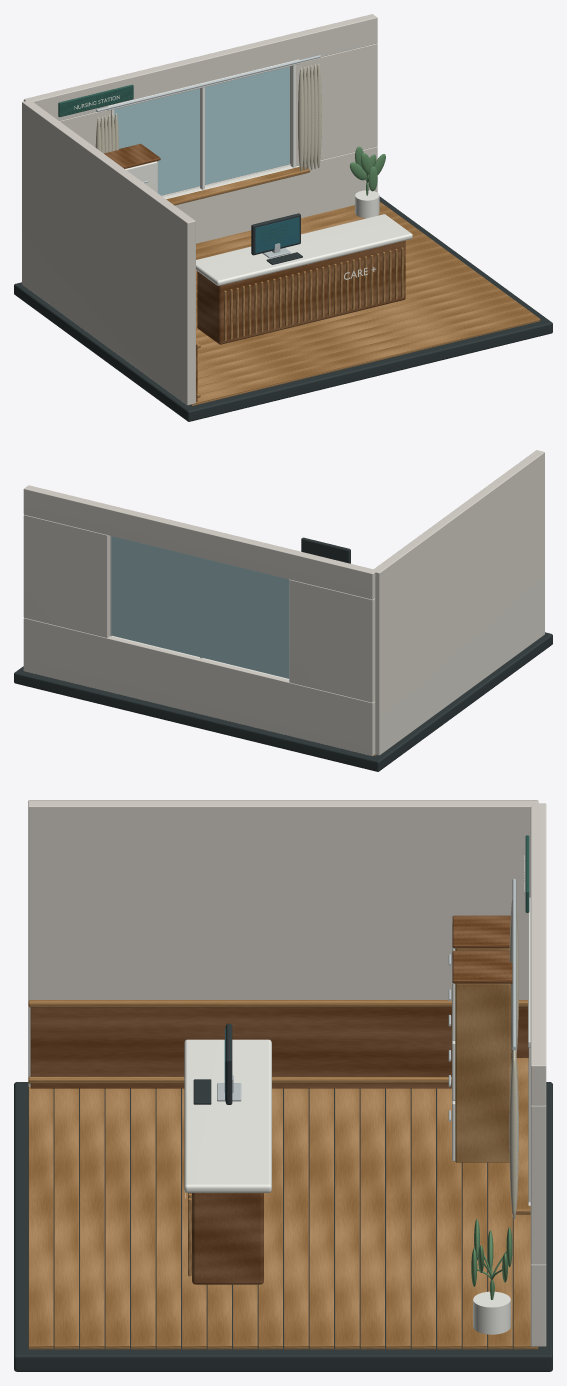
Rendered from care-nursing.glb.
The picture shows the model from 3 angles, top to bottom: view 1: azimuth 30°, elevation 25°; view 2: azimuth 150°, elevation 25°; view 3: azimuth 270°, elevation 25°; orthographic projection. The views are drawn at different scales.
Visible parts, largest first — view 1: Architecture_Mesh, ReceptionDesk_Mesh, WorkstationMonitor_Mesh, Plant_Mesh, StorageCabinet.001_Mesh; view 2: Architecture_Mesh, WorkstationMonitor_Mesh; view 3: Architecture_Mesh, ReceptionDesk_Mesh, StorageCabinet.001_Mesh, Plant_Mesh, StorageCabinet_Mesh, WorkstationMonitor_Mesh.
Part boxes in pixels (left/top/right/bottom): Architecture_Mesh: left=14, top=14, right=552, bottom=421; ReceptionDesk_Mesh: left=196, top=214, right=412, bottom=344; WorkstationMonitor_Mesh: left=251, top=213, right=302, bottom=264; Plant_Mesh: left=350, top=146, right=385, bottom=218; StorageCabinet.001_Mesh: left=104, top=143, right=160, bottom=192; Architecture_Mesh: left=14, top=450, right=552, bottom=771; WorkstationMonitor_Mesh: left=301, top=537, right=350, bottom=563; Architecture_Mesh: left=14, top=800, right=552, bottom=1371; ReceptionDesk_Mesh: left=184, top=1039, right=271, bottom=1284; StorageCabinet.001_Mesh: left=448, top=951, right=512, bottom=1162; Plant_Mesh: left=471, top=1219, right=512, bottom=1334; StorageCabinet_Mesh: left=448, top=915, right=510, bottom=1086; WorkstationMonitor_Mesh: left=193, top=1023, right=241, bottom=1104.
Size of the model in its own units: 5.86 by 3 by 4.86.
11 materials, 4 textured.
